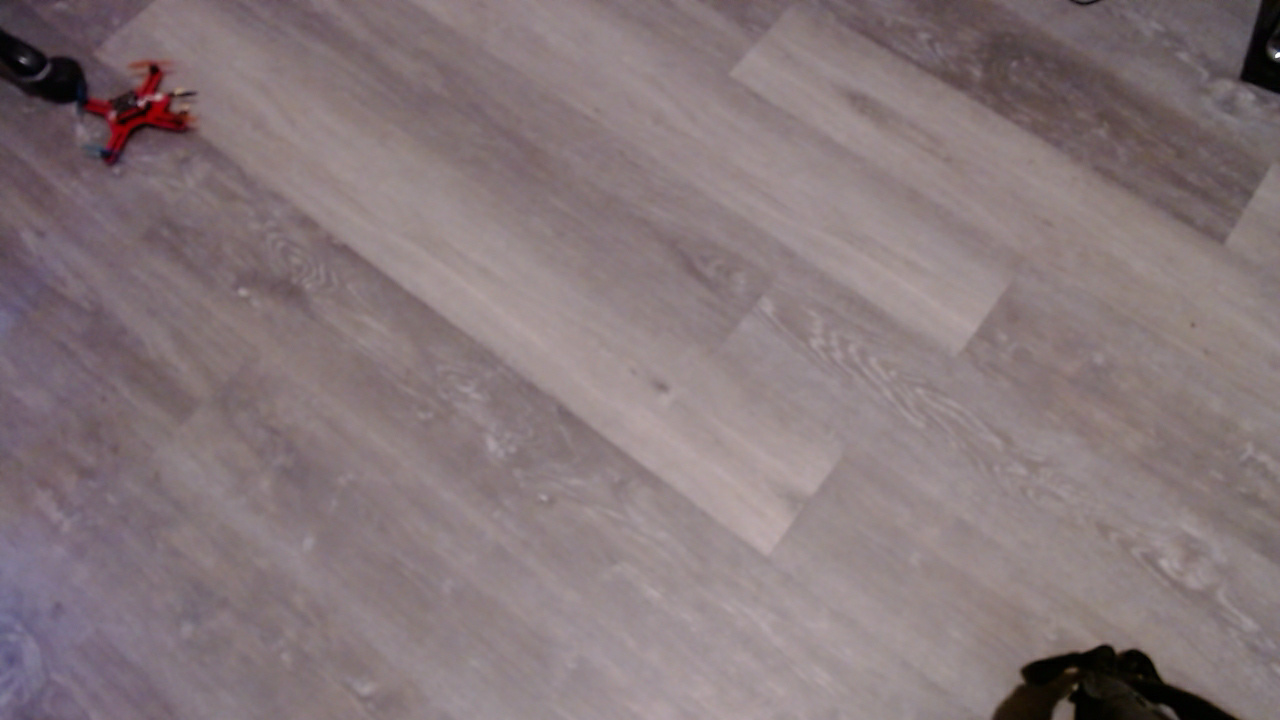crazyflie: (81, 57, 211, 175)
